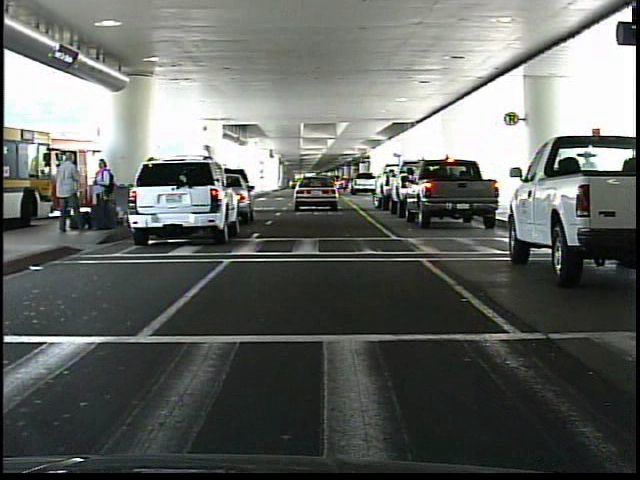person: (51, 151, 84, 233), (89, 155, 114, 234)
